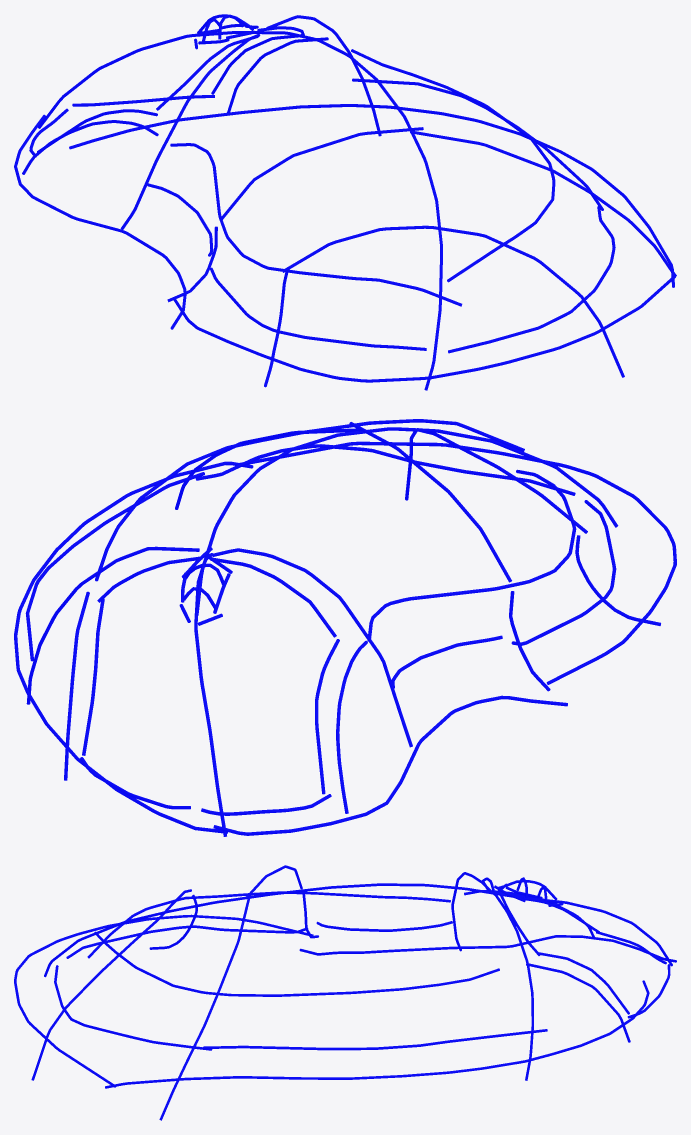
The model's file is cassie_computer-mouse.glb.
The picture shows the model from 3 angles, top to bottom: view 1: azimuth 30°, elevation 25°; view 2: azimuth 150°, elevation 25°; view 3: azimuth 270°, elevation 25°; orthographic projection. The views are drawn at different scales.
Visible parts, largest first — view 1: cassie_computer-mouse; view 2: cassie_computer-mouse; view 3: cassie_computer-mouse.
Part boxes in pixels (<box>): cassie_computer-mouse: <box>14,14,676,390</box>; cassie_computer-mouse: <box>14,419,676,836</box>; cassie_computer-mouse: <box>14,865,676,1120</box>.
Size of the model in its own units: 0.6568 by 0.2781 by 1.
